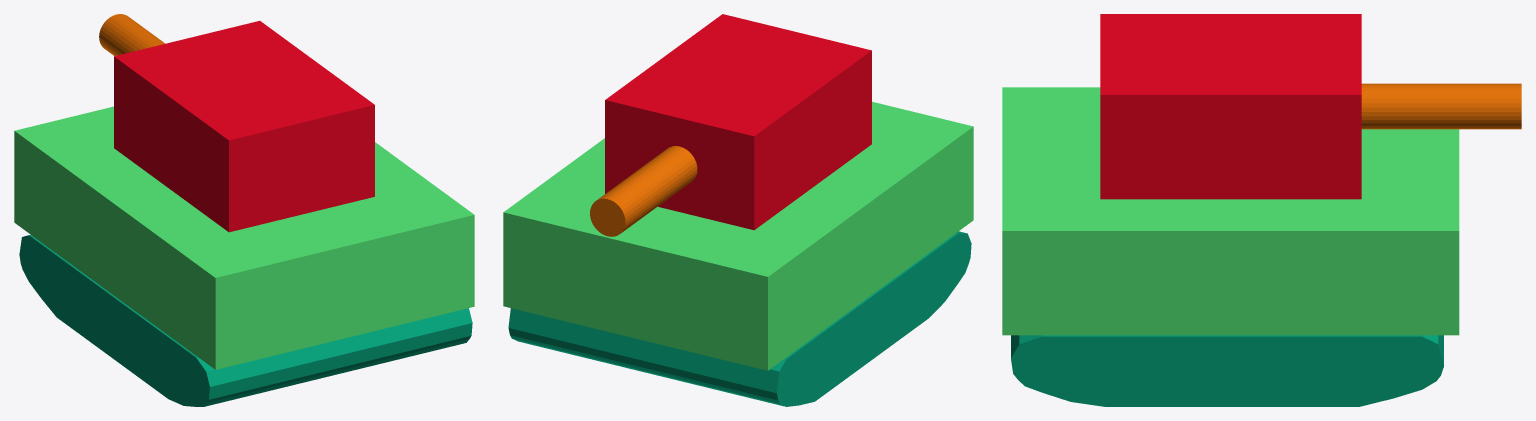
Rendered from Tank.fbx.
3 renders of one model, left to right at view 1: azimuth 30°, elevation 25°; view 2: azimuth 150°, elevation 25°; view 3: azimuth 270°, elevation 25°, orthographic. The views are drawn at different scales.
Visible parts, largest first — view 1: Tank_Body, Tank_Top, Tank_Caterpillar, Tank_Turret; view 2: Tank_Body, Tank_Top, Tank_Caterpillar, Tank_Turret; view 3: Tank_Body, Tank_Top, Tank_Caterpillar, Tank_Turret.
Boxes of the visible parts, x1,y1,x2,y2 form: Tank_Body: (14,106,474,369); Tank_Top: (114,21,374,232); Tank_Caterpillar: (19,234,472,406); Tank_Turret: (99,14,165,55); Tank_Body: (503,101,973,370); Tank_Top: (605,14,871,230); Tank_Caterpillar: (508,231,971,406); Tank_Turret: (590,146,697,236); Tank_Body: (1002,87,1459,335); Tank_Top: (1100,14,1361,199); Tank_Caterpillar: (1011,335,1443,406); Tank_Turret: (1361,83,1521,129).
Bounding box in the file's own units: 75.36 × 67.5 × 114.
